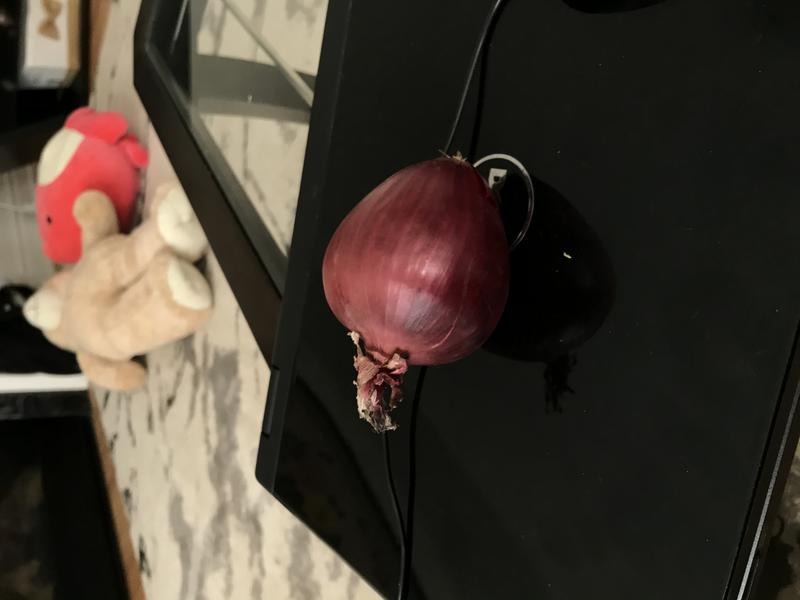purple_onion: (293, 140, 542, 443)
